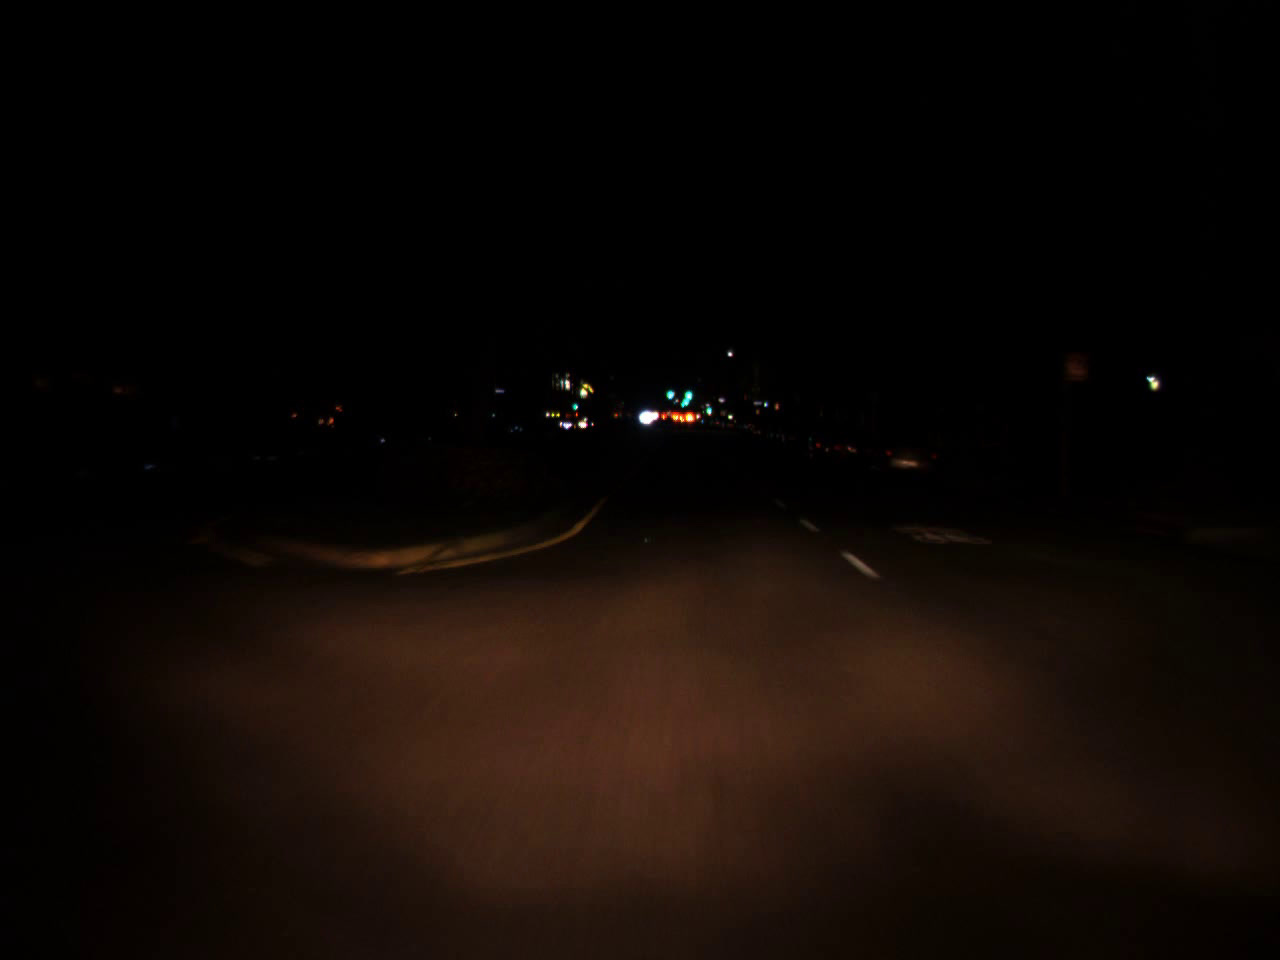go: (680, 377, 692, 398), (569, 392, 579, 413), (665, 381, 674, 402)
